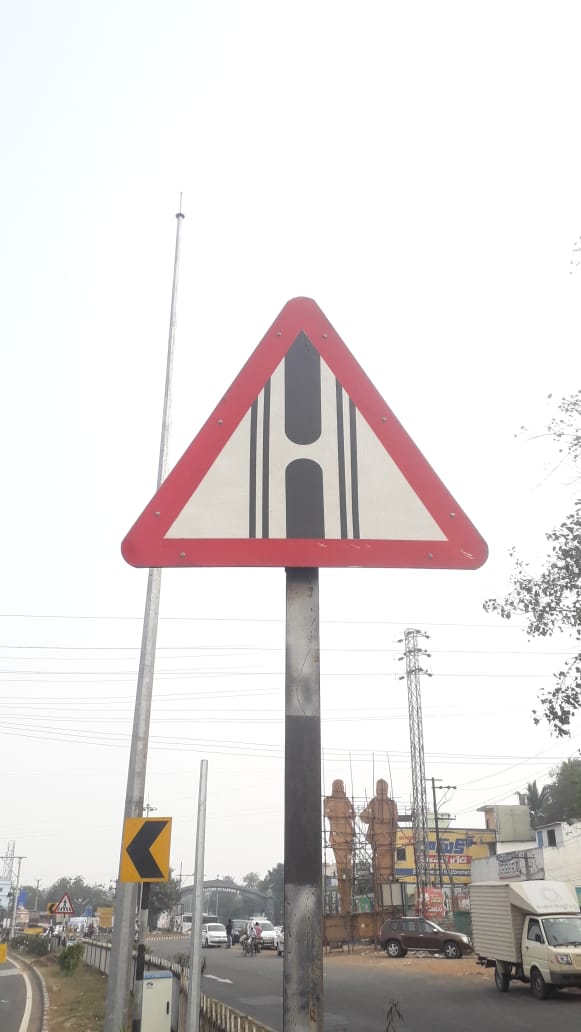highway go straight: (120, 260, 518, 607)
